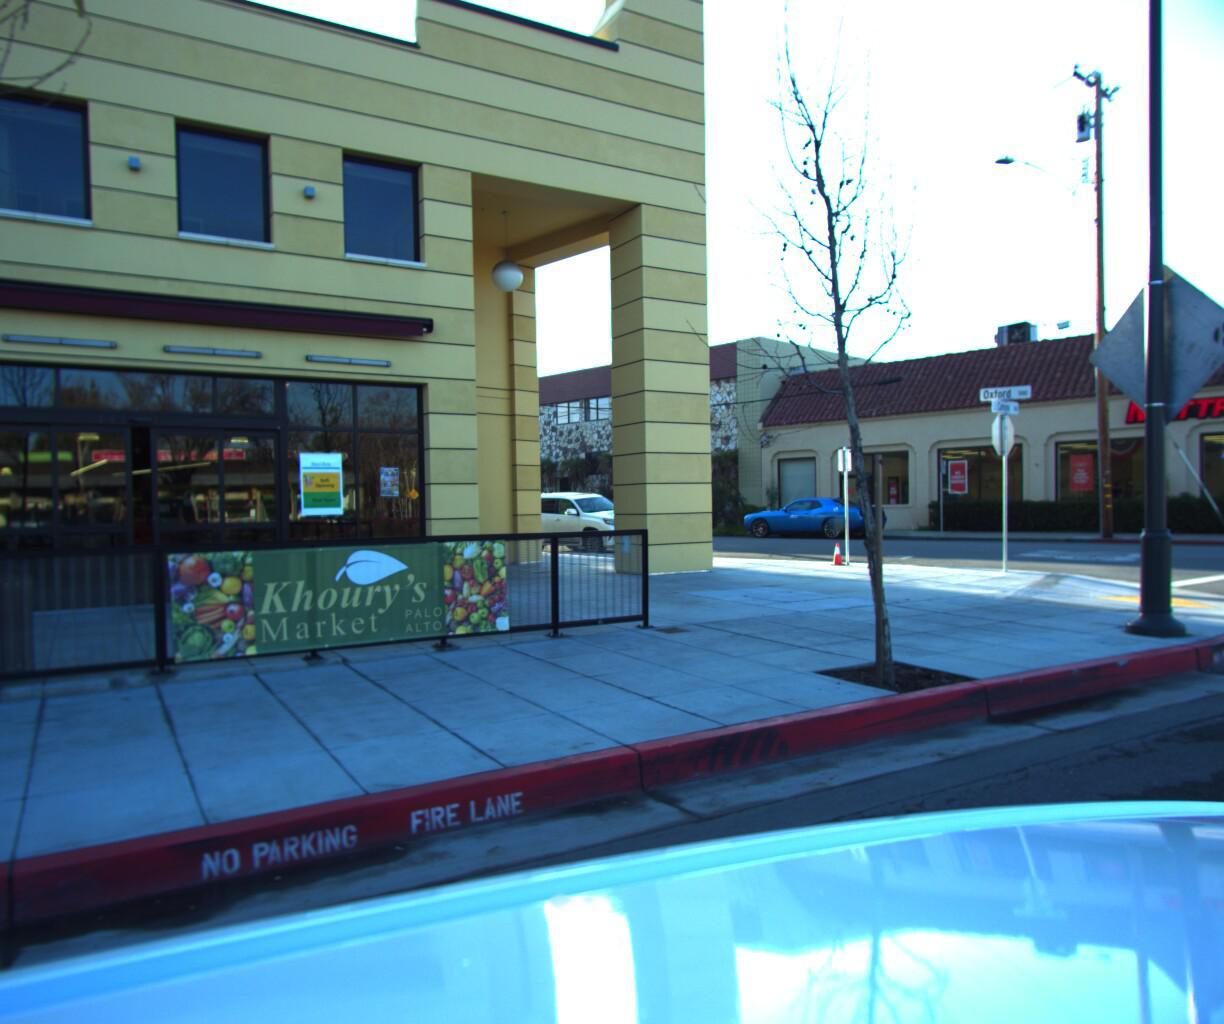car: (507, 485, 663, 552), (740, 490, 892, 538)
